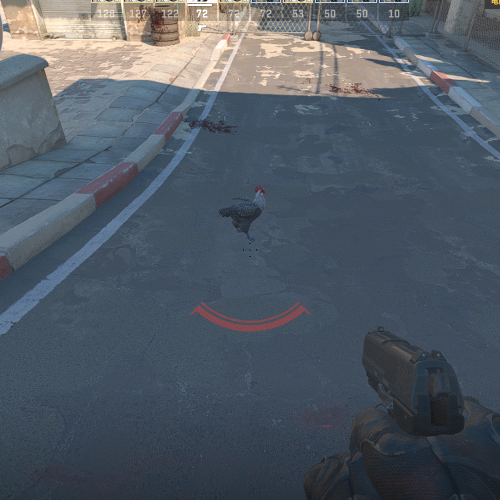chicken: (219, 186, 267, 242)
